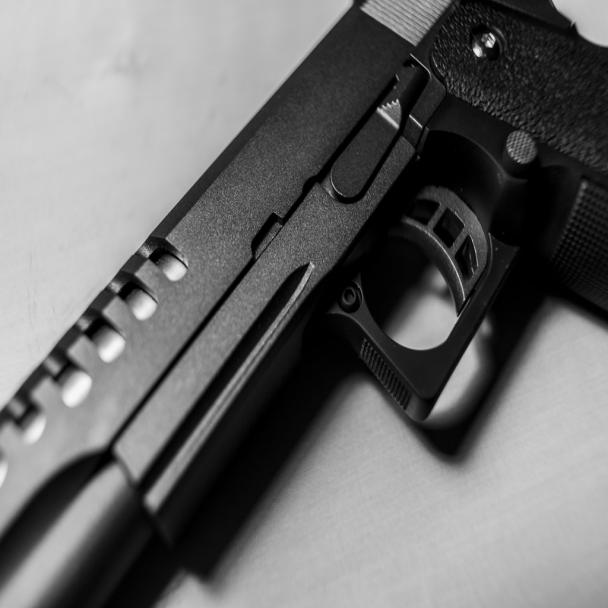Gun: (0, 2, 607, 604)
